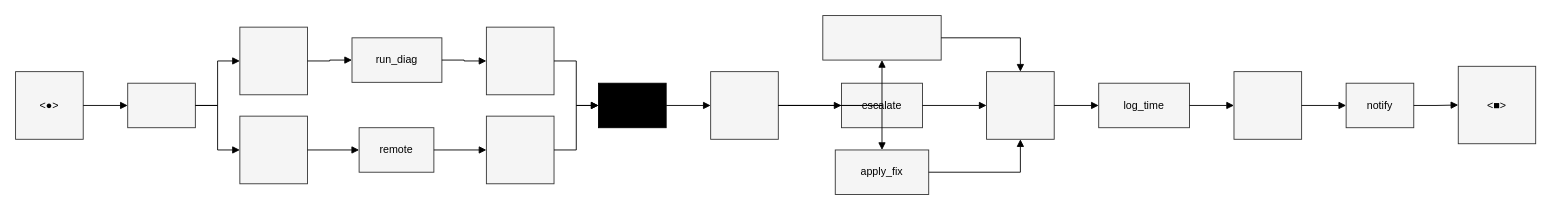
Image size: 1551x210. Some labels were removed from this diagram. Here are the shapes that lost their labels. From the top down, the centre of each, then its label:
point (881, 37): request_info
point (161, 105): open
